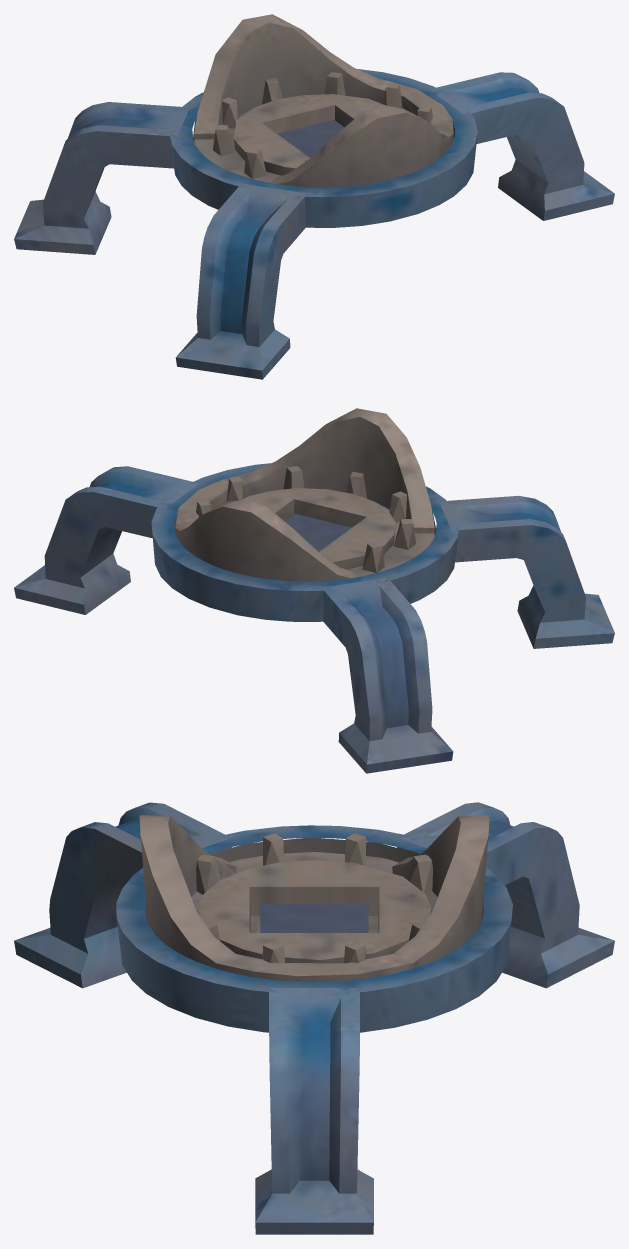
File: fast-inserter-east.glb
3 views of the same model, one above another, from view 1: azimuth 30°, elevation 25°; view 2: azimuth 150°, elevation 25°; view 3: azimuth 270°, elevation 25° (orthographic). The views are drawn at different scales.
Visible parts, largest first — view 1: body; view 2: body; view 3: body.
Boxes of the visible parts, x1,y1,x2,y2 form: body: (14,14,614,379); body: (14,408,614,773); body: (14,802,614,1234).
Bounding box in the file's own units: 1.15 × 0.4164 × 0.9298.
Materials: 1 (1 with a texture image).
